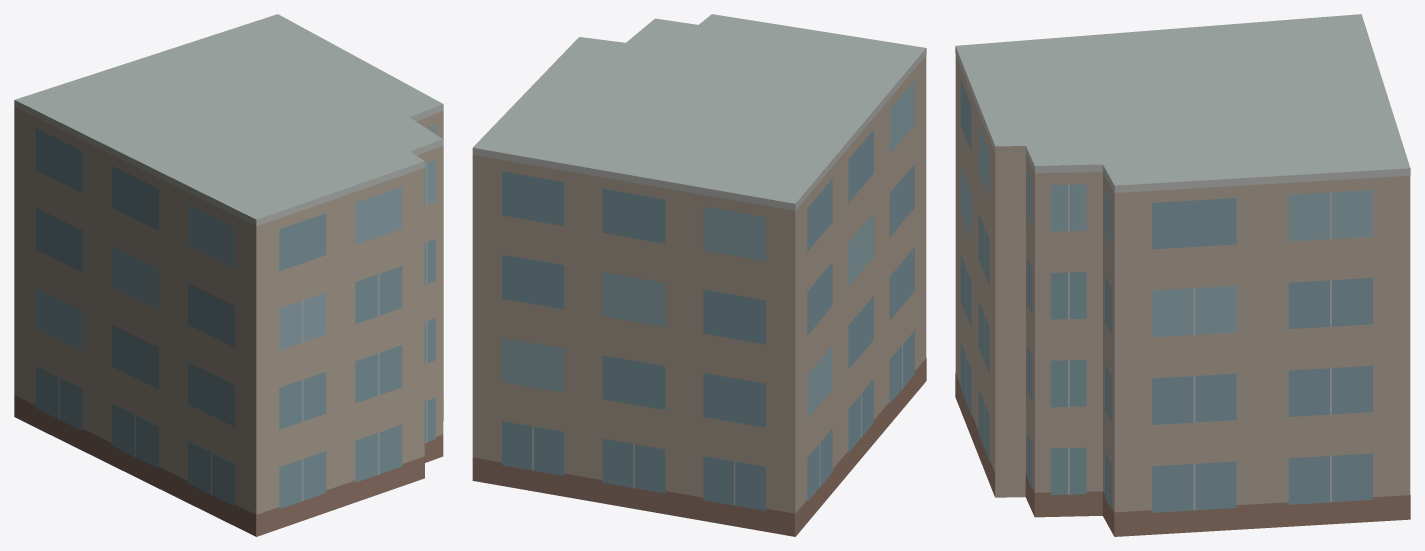
File: survey-upis-32614930.glb
3 views of the same model, side by side, from view 1: azimuth 30°, elevation 25°; view 2: azimuth 150°, elevation 25°; view 3: azimuth 270°, elevation 25° (orthographic). The views are drawn at different scales.
Parts seen in each view (by area): view 1: survey-upis-32614930.tmp; view 2: survey-upis-32614930.tmp; view 3: survey-upis-32614930.tmp.
Boxes of the visible parts, <box> form: survey-upis-32614930.tmp: <box>14,14,443,536</box>; survey-upis-32614930.tmp: <box>472,14,926,536</box>; survey-upis-32614930.tmp: <box>955,14,1410,536</box>.
Bounding box in the file's own units: 12.17 × 11.6 × 13.63.
